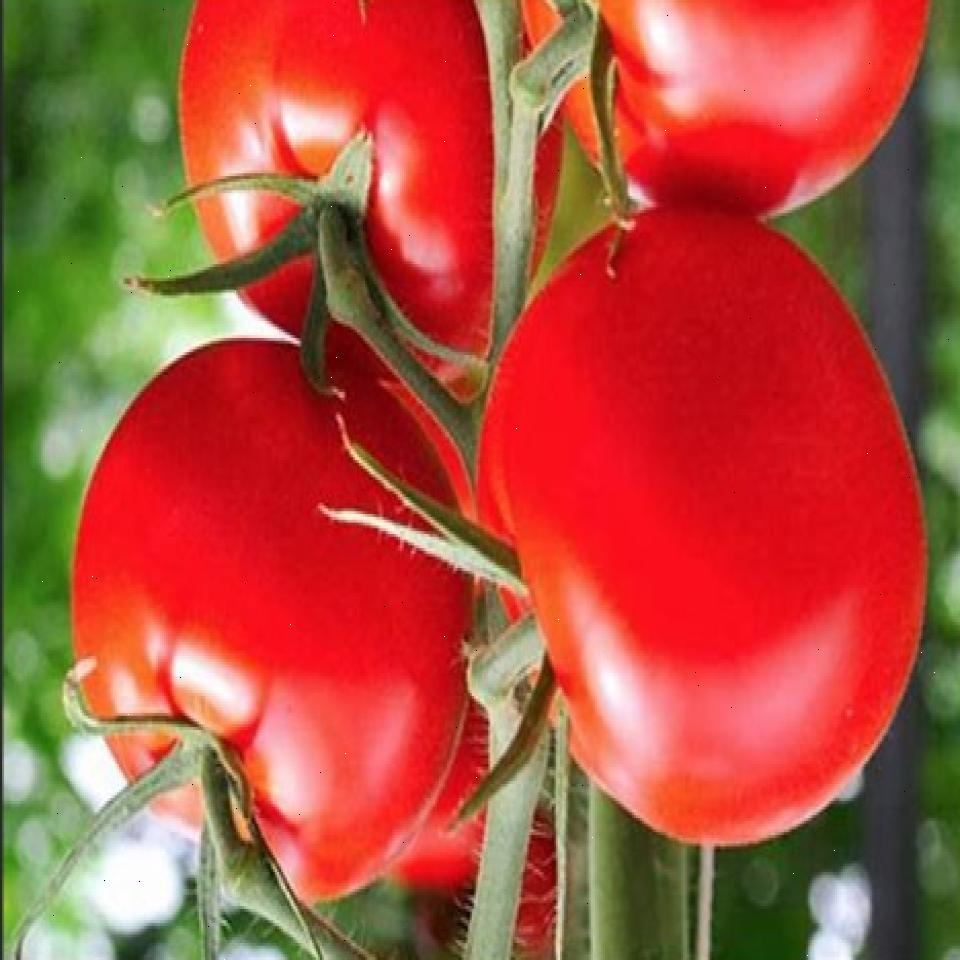Healthy: (518, 270, 920, 862), (77, 378, 471, 897), (176, 0, 578, 414), (525, 0, 939, 279)
